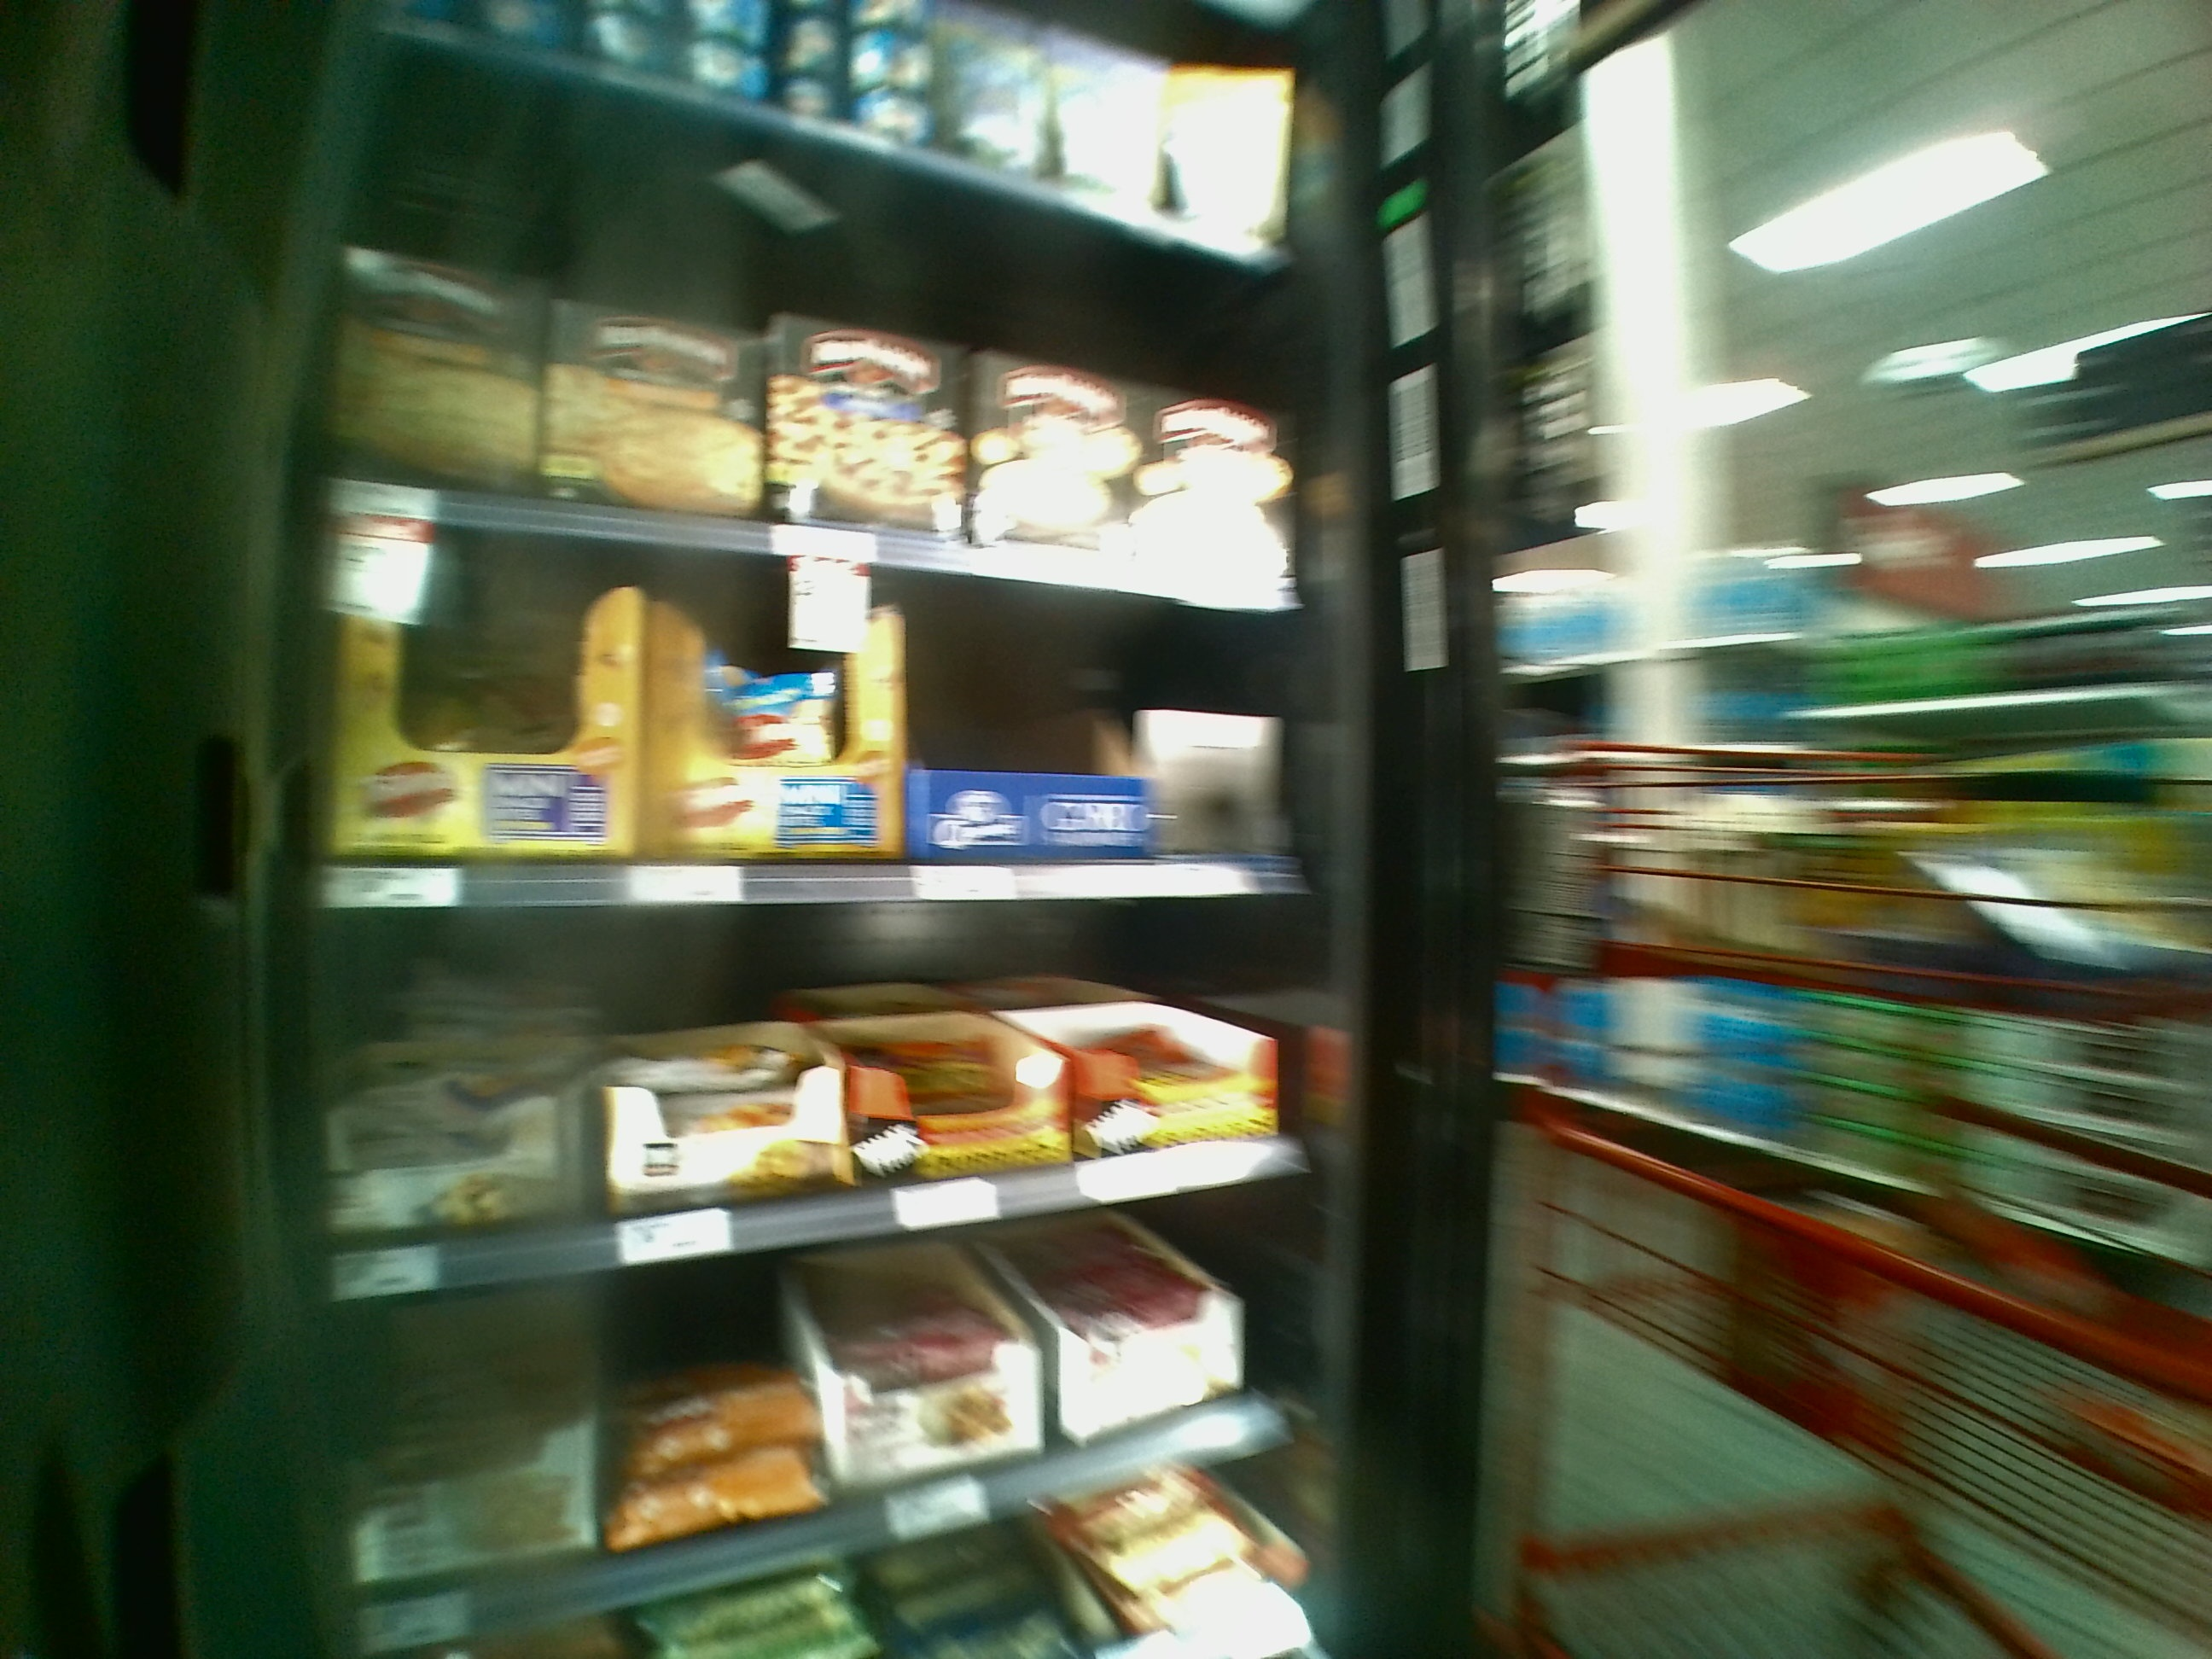shelf: (327, 906, 1334, 1265), (322, 1227, 1343, 1565), (324, 573, 1325, 906)
